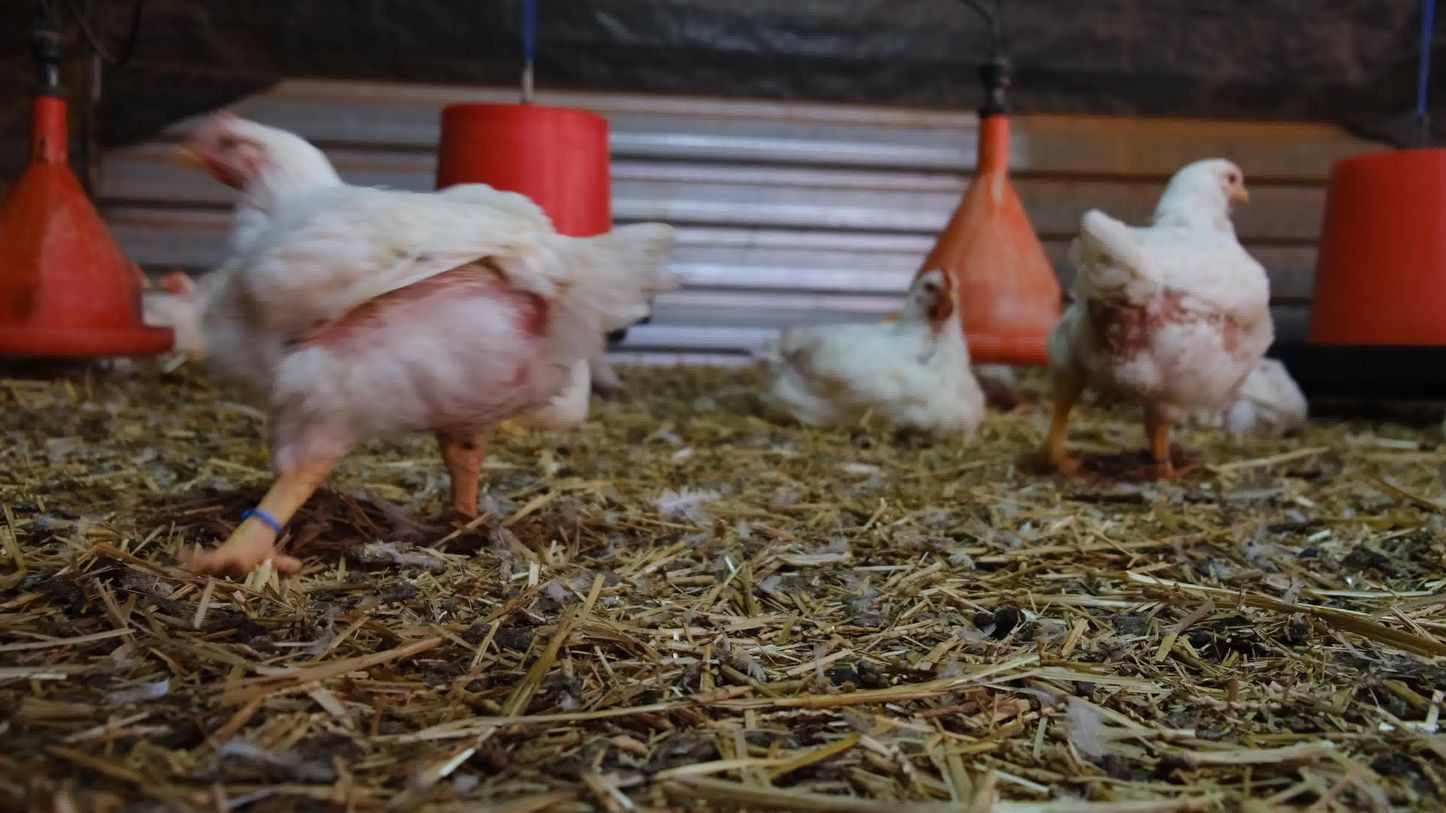AbNormal: (750, 264, 991, 423), (1210, 349, 1307, 444), (147, 266, 221, 372)
Normal: (168, 104, 667, 581), (1021, 149, 1275, 476)
